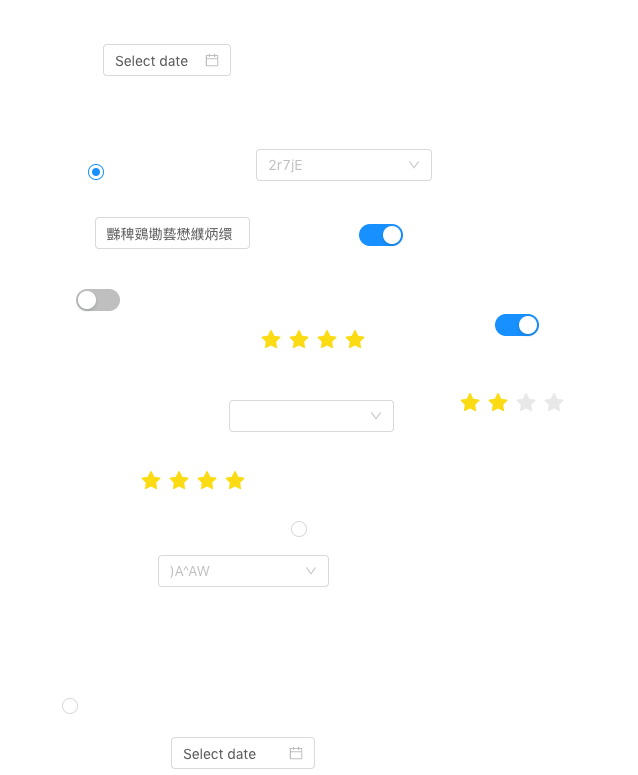DatePicker: (171, 737, 315, 769), (103, 44, 231, 76)
Input: (95, 217, 250, 249)
Radio: (62, 695, 78, 715), (88, 161, 104, 181), (291, 518, 307, 538)
Rate: (141, 464, 261, 496), (460, 386, 580, 418), (261, 323, 381, 355)
Select: (256, 149, 432, 181), (158, 555, 329, 587), (229, 400, 394, 432)
Switch: (359, 223, 403, 247), (76, 288, 120, 312), (495, 313, 539, 337)
